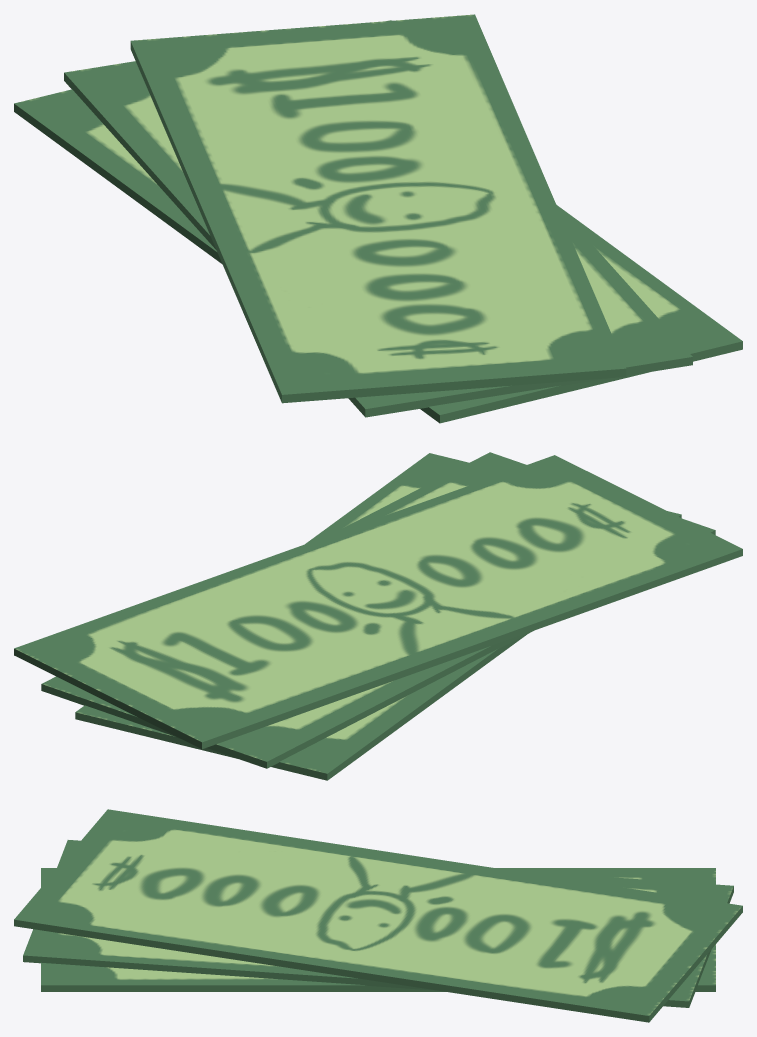
The model's file is Money_Stack_Small.fbx.
3 renders of one model, top to bottom at view 1: azimuth 30°, elevation 25°; view 2: azimuth 150°, elevation 25°; view 3: azimuth 270°, elevation 25°, orthographic. The views are drawn at different scales.
Visible parts, largest first — view 1: Cash_Stack_Small; view 2: Cash_Stack_Small; view 3: Cash_Stack_Small.
Boxes of the visible parts, bbox=[...] form: Cash_Stack_Small: bbox=[14, 14, 742, 423]; Cash_Stack_Small: bbox=[14, 452, 742, 780]; Cash_Stack_Small: bbox=[14, 809, 742, 1022].
Size of the model in its own units: 0.1217 by 0.00565 by 0.1813.
Materials: 1 (1 with a texture image).
